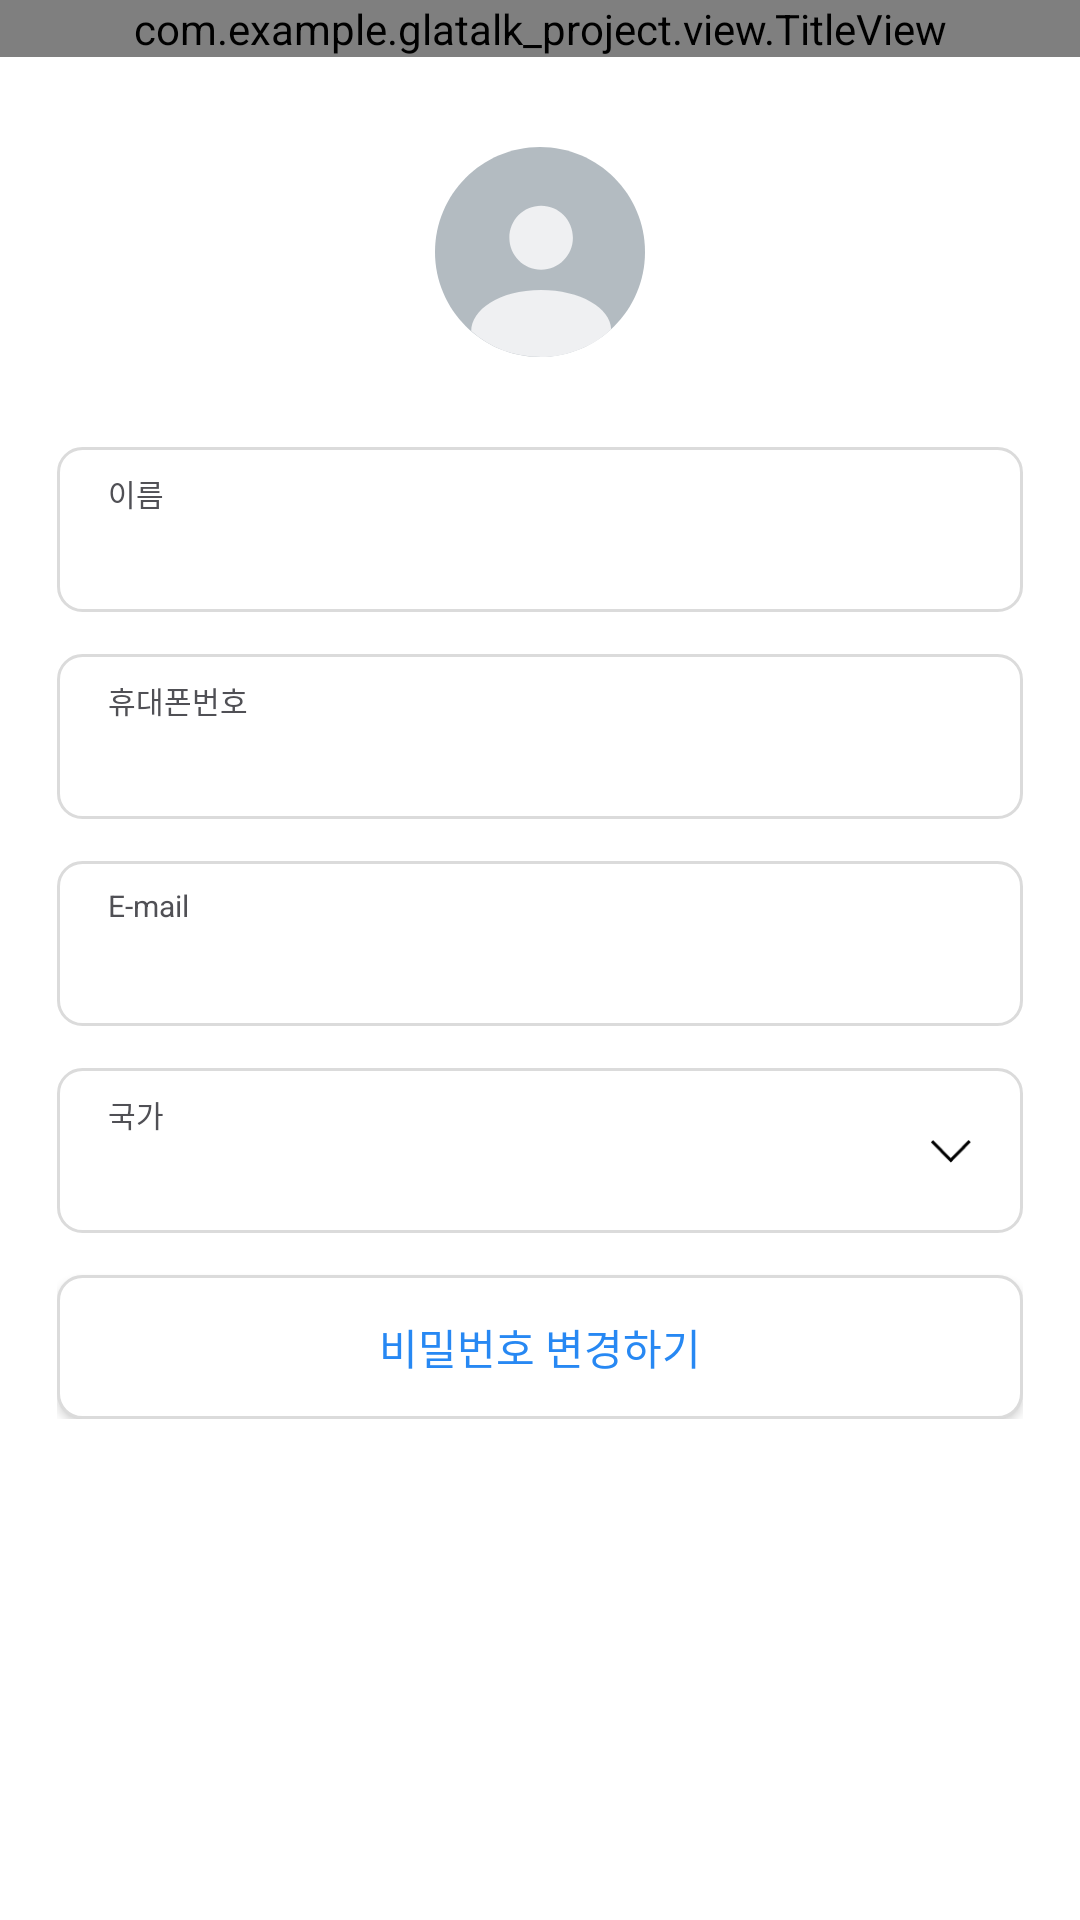

Where icons sit on this 1080 x 1920 app screen, as region(x1, y1, x2, y2):
profile: region(435, 147, 645, 357)
